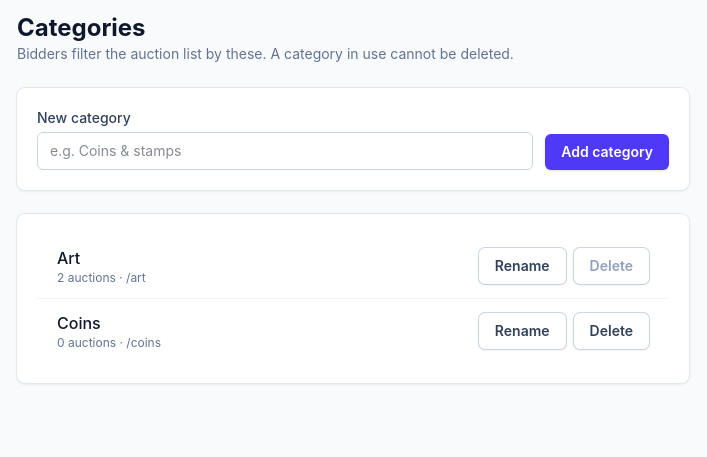
Scenario: <AdminCategoriesPage> › adds a category and shows the server reason when the name is taken
The image size is (707, 457).
Step 1. Type "art!" into the field labelled "New category" → (285, 151), box [37,132,533,170]
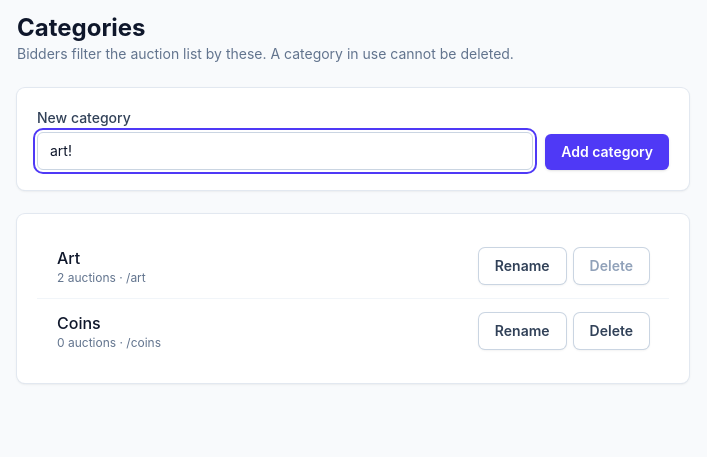
Step 2. Click the button "Add category" → (607, 152), box [545,134,669,170]
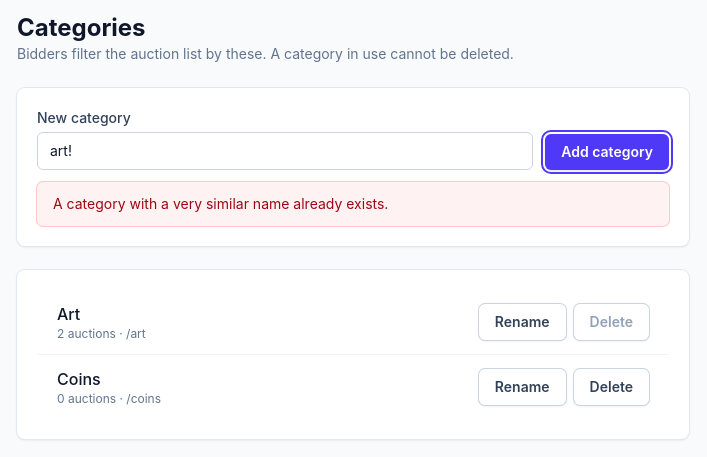
Check: the text "A category with a very similar name already exists." is shown, box [37,182,669,226]
